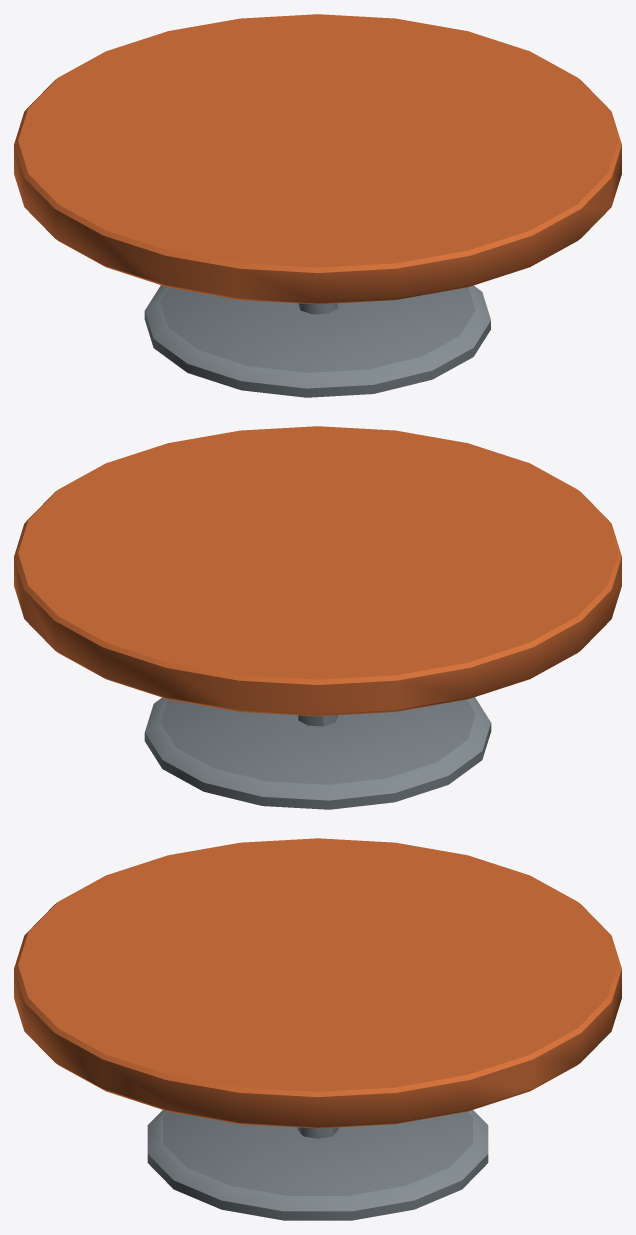
The model's file is furn_table_round.glb.
3 views of the same model, one above another, from view 1: azimuth 30°, elevation 25°; view 2: azimuth 150°, elevation 25°; view 3: azimuth 270°, elevation 25° (orthographic).
Visible parts, largest first — view 1: table_round_A; view 2: table_round_A; view 3: table_round_A.
Boxes of the visible parts, x1,y1,x2,y2 form: table_round_A: [14, 14, 621, 397]; table_round_A: [14, 426, 621, 809]; table_round_A: [14, 838, 621, 1220].
Size of the model in its own units: 3 by 0.9999 by 3.
Materials: 1 (1 with a texture image).
